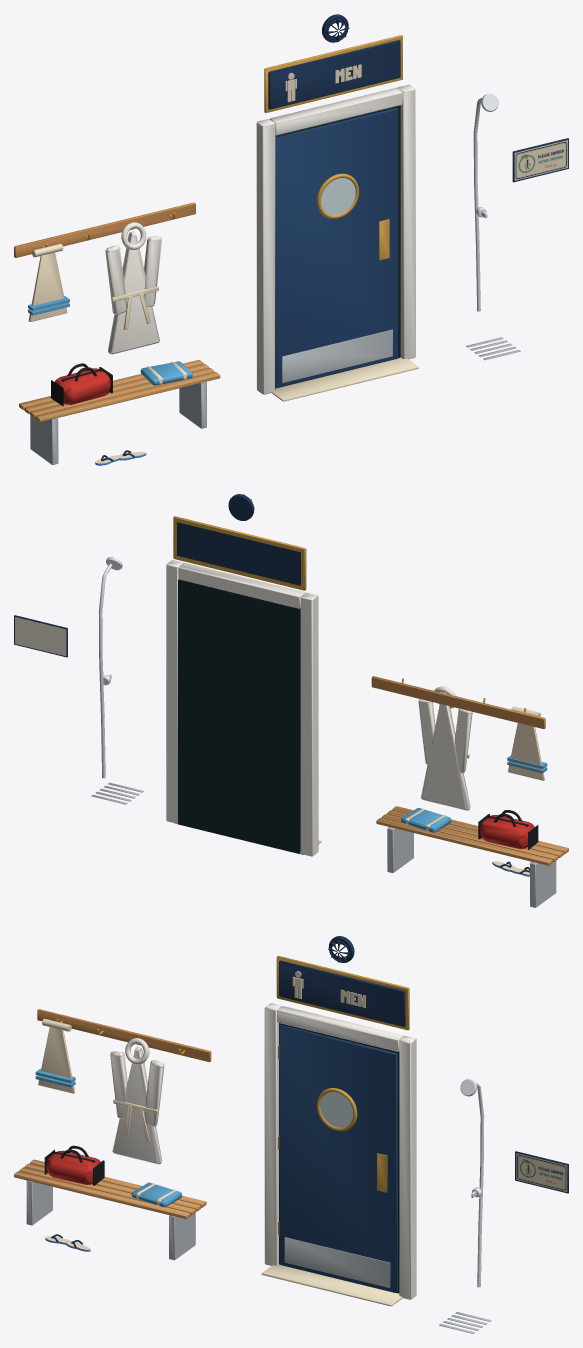
File: changing_door_men.glb
3 views of the same model, one above another, from view 1: azimuth 30°, elevation 25°; view 2: azimuth 150°, elevation 25°; view 3: azimuth 330°, elevation 25° (orthographic). The views are drawn at different scales.
Parts seen in each view (by area): view 1: ChangingDoorMenBody, Door; view 2: ChangingDoorMenBody; view 3: ChangingDoorMenBody, Door.
Boxes of the visible parts, left/top/right/bottom form: ChangingDoorMenBody: left=14, top=14, right=568, bottom=465; Door: left=275, top=108, right=398, bottom=388; ChangingDoorMenBody: left=14, top=494, right=568, bottom=907; ChangingDoorMenBody: left=14, top=936, right=568, bottom=1333; Door: left=278, top=1025, right=397, bottom=1292.
Size of the model in its own units: 5.21 by 3.22 by 0.705.
Materials: 23 (1 with a texture image).
